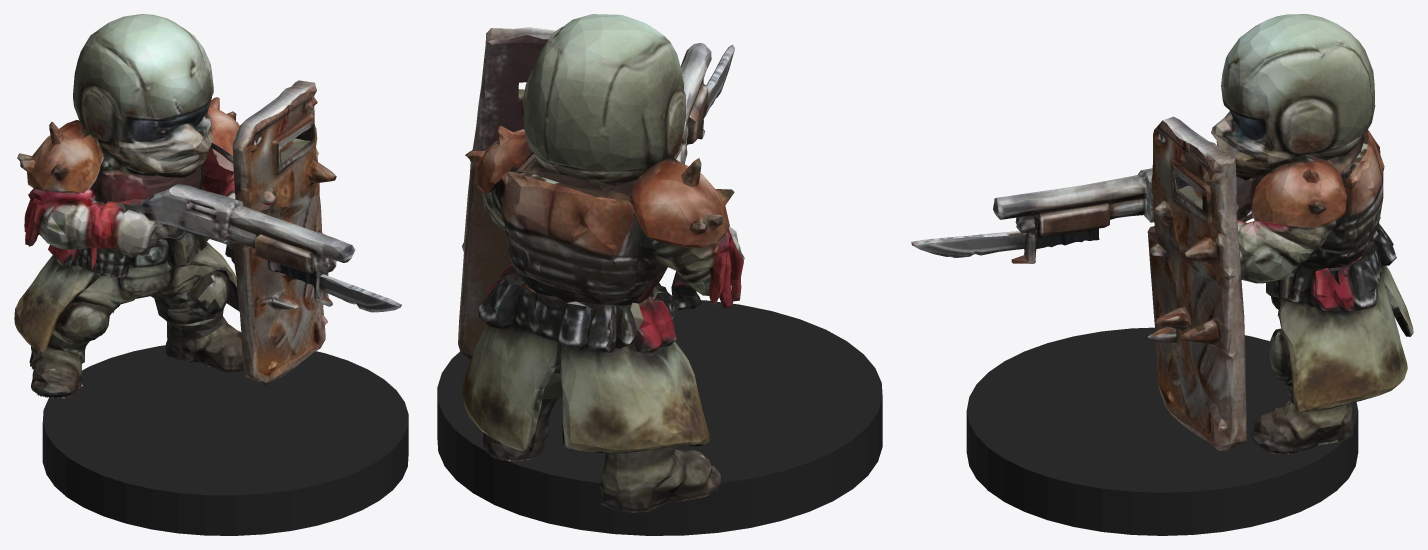
Rendered from bl-trench-sweeper.glb.
3 views of the same model, side by side, from view 1: azimuth 30°, elevation 25°; view 2: azimuth 150°, elevation 25°; view 3: azimuth 270°, elevation 25° (orthographic). The views are drawn at different scales.
Visible parts, largest first — view 1: figure, base; view 2: figure, base; view 3: figure, base.
Part boxes in pixels (left/top/right/bottom): figure: left=14, top=14, right=401, bottom=398; base: left=42, top=345, right=408, bottom=535; figure: left=458, top=14, right=744, bottom=512; base: left=437, top=300, right=882, bottom=535; figure: left=911, top=14, right=1413, bottom=454; base: left=966, top=327, right=1358, bottom=535.
Bounding box in the file's own units: 0.9843 × 1.17 × 1.26.
Materials: 2 (1 with a texture image).
